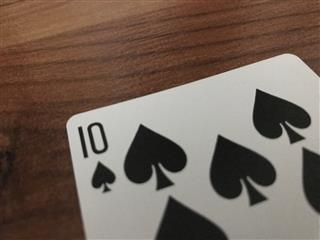TenOfSpades: (64, 51, 320, 240)
